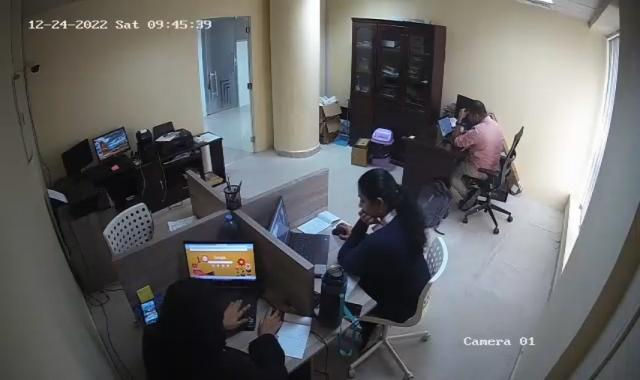no_hairnet: (162, 284, 220, 342), (356, 167, 401, 220), (465, 98, 487, 128)
